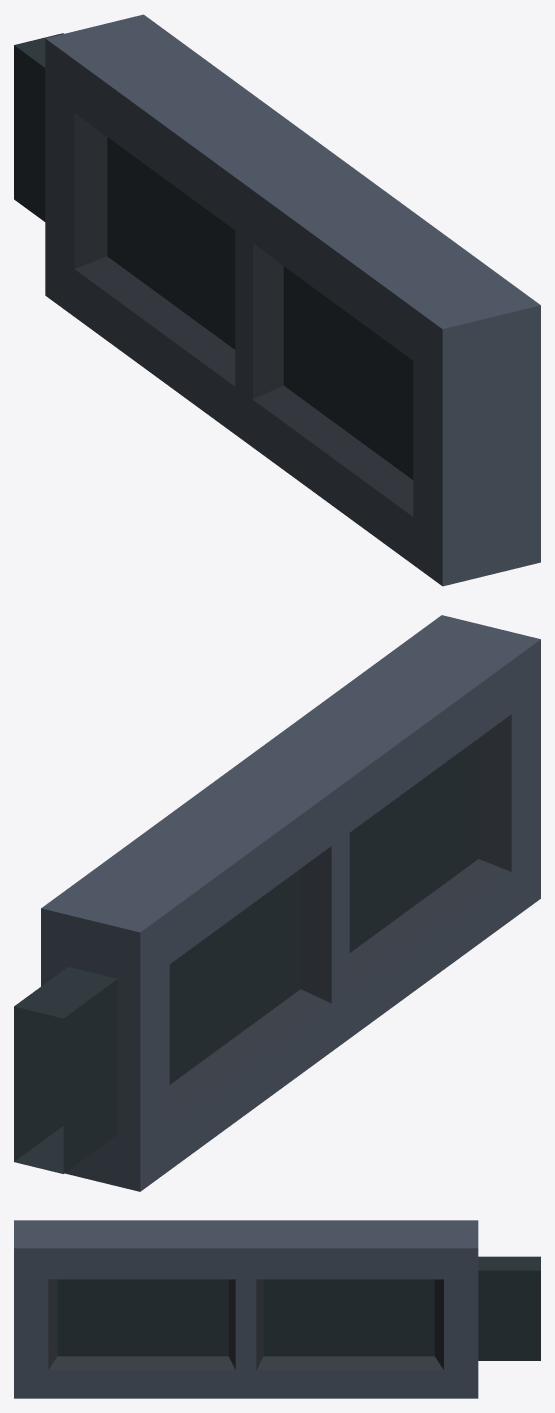
Rendered from 3D_clock_hung_1.fbx.
The picture shows the model from 3 angles, top to bottom: view 1: azimuth 30°, elevation 25°; view 2: azimuth 150°, elevation 25°; view 3: azimuth 270°, elevation 25°; orthographic projection. The views are drawn at different scales.
Parts seen in each view (by area): view 1: Clock, ClockAttach; view 2: Clock, ClockAttach; view 3: Clock, ClockAttach.
Boxes of the visible parts, box(x1,y1,x2,y2) form: Clock: box(45, 14, 540, 586); ClockAttach: box(14, 33, 63, 221); Clock: box(41, 615, 540, 1191); ClockAttach: box(14, 967, 117, 1173); Clock: box(14, 1220, 478, 1398); ClockAttach: box(478, 1256, 540, 1360).
Size of the model in its own units: 0.2 by 0.5 by 1.59.
